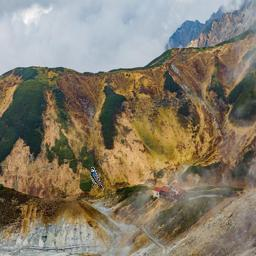Swallow: (90, 166, 104, 190)
